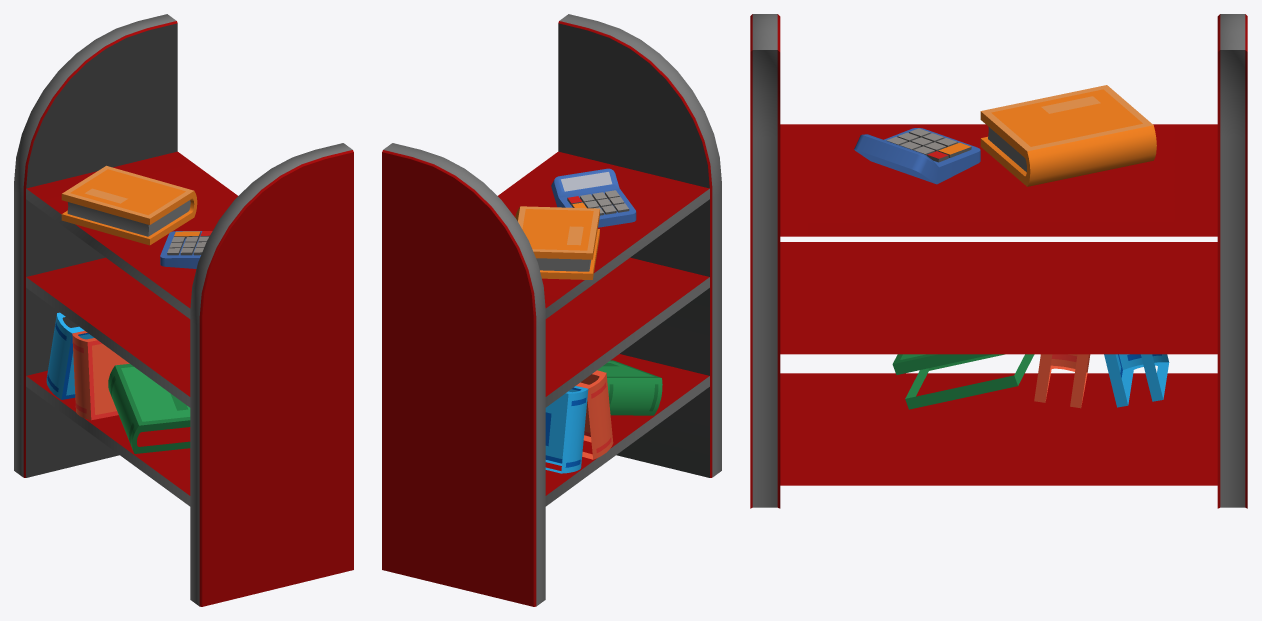
The model's file is Book Shelf LEVEL-2-2.fbx.
The picture shows the model from 3 angles, left to right: view 1: azimuth 30°, elevation 25°; view 2: azimuth 150°, elevation 25°; view 3: azimuth 270°, elevation 25°; orthographic projection. The views are drawn at different scales.
Parts seen in each view (by area): view 1: Book Shelf LEVEL-2-2; view 2: Book Shelf LEVEL-2-2; view 3: Book Shelf LEVEL-2-2.
Boxes of the visible parts, x1,y1,x2,y2 form: Book Shelf LEVEL-2-2: (14,14,353,606); Book Shelf LEVEL-2-2: (382,14,721,606); Book Shelf LEVEL-2-2: (750,14,1247,508).
Bounding box in the file's own units: 4.78 × 12.16 × 9.84.
